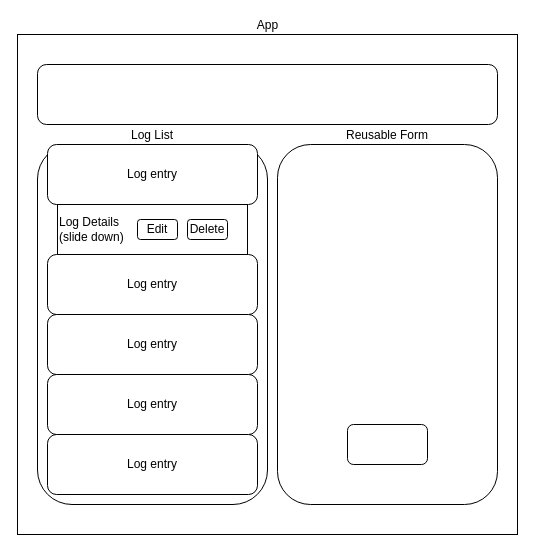
Some shapes in this 535 by 552 pixel diagram are drawn without their labels. The shapes that lost their labels are listed below. From the top down, each one's centre as x and y in pixels, then its label:
the point at 267,94: Header
the point at 387,444: Submit
